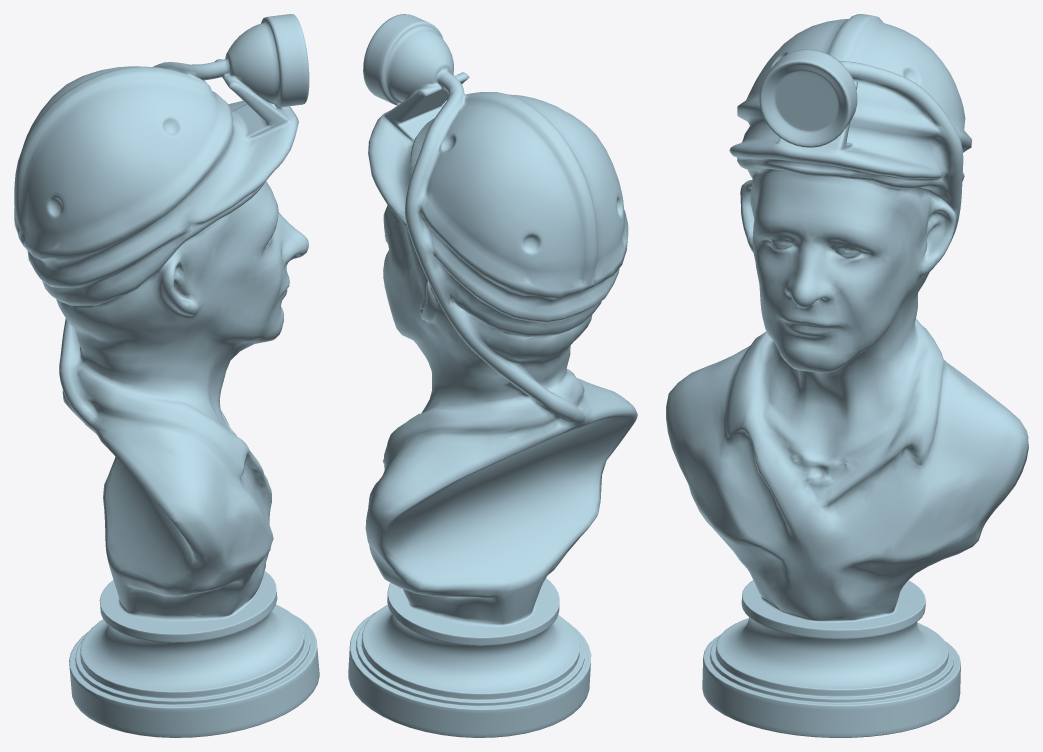
3 views of the same model, side by side, from view 1: azimuth 30°, elevation 25°; view 2: azimuth 150°, elevation 25°; view 3: azimuth 270°, elevation 25° (orthographic). The views are drawn at different scales.
Visible parts, largest first — view 1: 15370_Bust-Coal_Miner_with_Hard_Hat_v1; view 2: 15370_Bust-Coal_Miner_with_Hard_Hat_v1; view 3: 15370_Bust-Coal_Miner_with_Hard_Hat_v1.
Part boxes in pixels (box(x1,y1,x2,y2)): 15370_Bust-Coal_Miner_with_Hard_Hat_v1: box(14, 14, 319, 737); 15370_Bust-Coal_Miner_with_Hard_Hat_v1: box(348, 14, 637, 737); 15370_Bust-Coal_Miner_with_Hard_Hat_v1: box(666, 14, 1028, 737).
Size of the model in its own units: 25.99 by 62.31 by 29.89.
